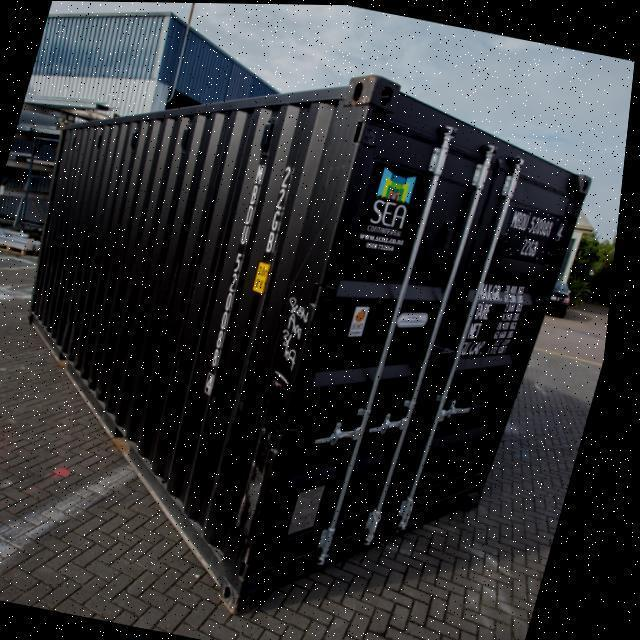container_number_h: (502, 204, 576, 266)
